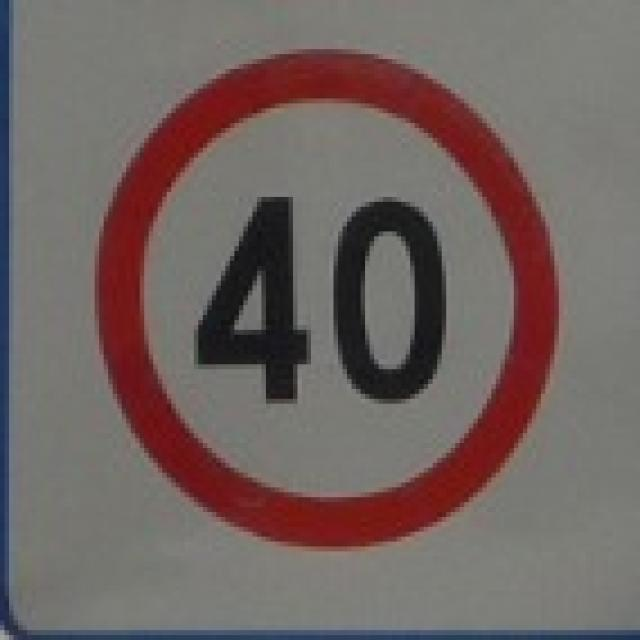Speed Limit -40-: (190, 192, 450, 410)
